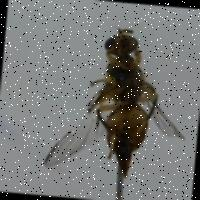Oriental-fruit-fly: (36, 17, 194, 180)
